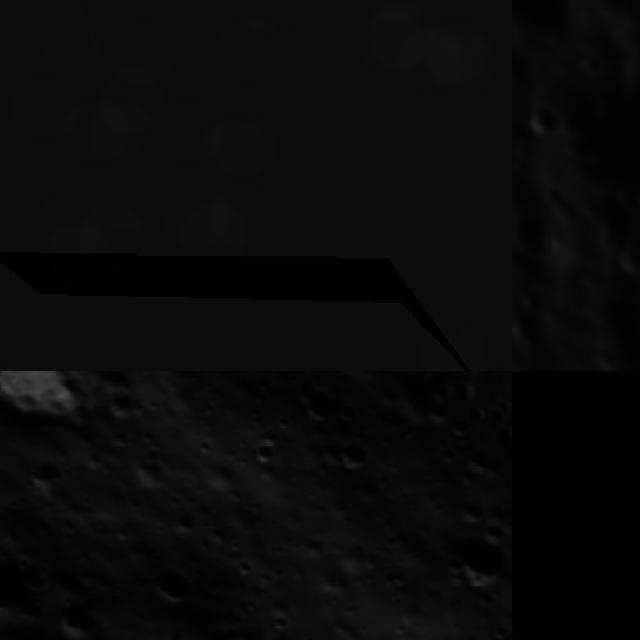crater: (0, 0, 512, 371), (0, 371, 145, 456), (432, 516, 512, 607), (0, 540, 54, 638), (139, 554, 204, 619), (281, 371, 347, 433), (92, 372, 154, 433), (36, 585, 99, 640), (512, 202, 566, 264), (325, 427, 379, 481), (21, 450, 72, 500), (236, 433, 285, 482), (522, 103, 565, 147), (448, 491, 490, 533), (572, 44, 612, 84), (612, 230, 640, 285), (188, 616, 249, 640), (258, 606, 293, 640), (322, 627, 371, 640)
